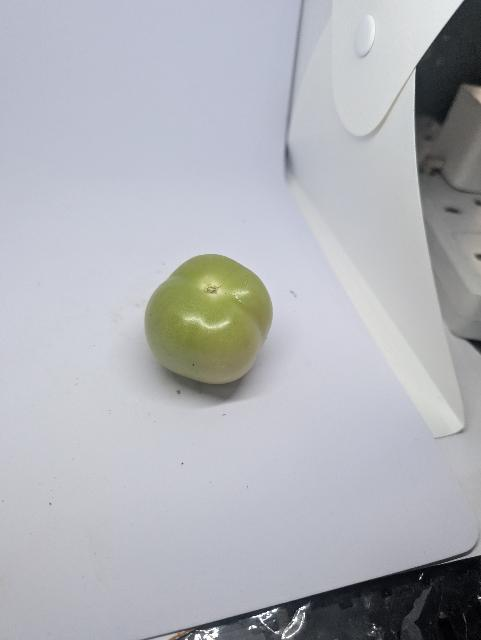green: (144, 252, 276, 387)
